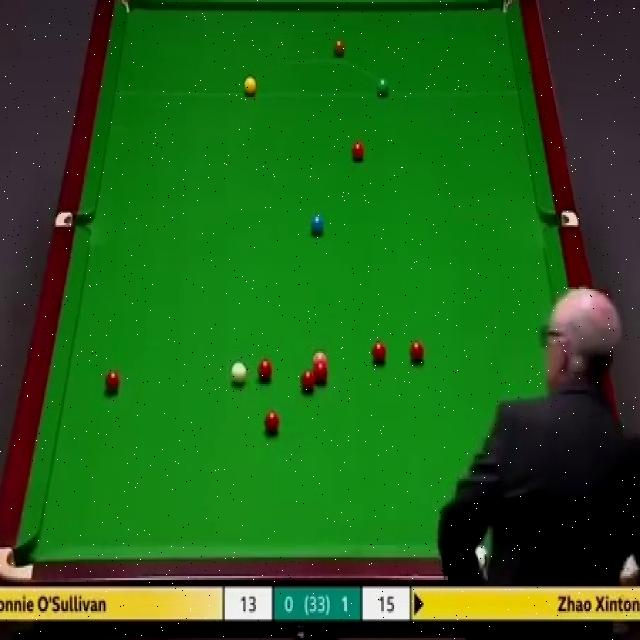blue-ball: (309, 212, 324, 235)
brown-ball: (333, 38, 345, 58)
green-ball: (375, 76, 389, 97)
pink-ball: (312, 351, 328, 366)
red-ball: (103, 370, 120, 397), (410, 339, 426, 364), (349, 140, 366, 162), (371, 340, 386, 364), (312, 363, 329, 384), (257, 359, 272, 382), (301, 371, 316, 392), (264, 411, 278, 433)
white-ball: (230, 359, 247, 386)
yellow-ball: (243, 74, 257, 96)
